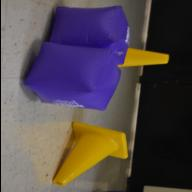cone: (51, 122, 128, 186), (116, 48, 170, 68)
cube: (22, 42, 121, 110), (48, 5, 130, 65)
